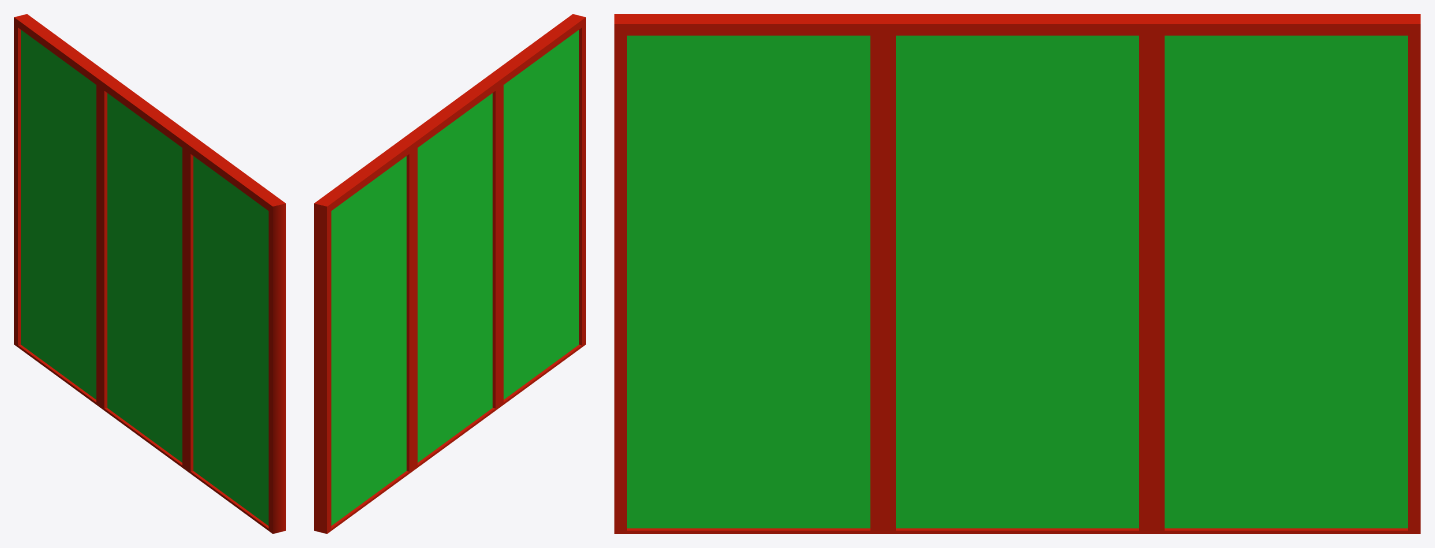
Rendered from Wall_Loby1.fbx.
The picture shows the model from 3 angles, left to right: view 1: azimuth 30°, elevation 25°; view 2: azimuth 150°, elevation 25°; view 3: azimuth 270°, elevation 25°; orthographic projection. The views are drawn at different scales.
Parts seen in each view (by area): view 1: wall:wall_1; view 2: wall:wall_1; view 3: wall:wall_1.
Boxes of the visible parts, <box> form: wall:wall_1: <box>14,14,285,533</box>; wall:wall_1: <box>314,14,585,533</box>; wall:wall_1: <box>614,14,1420,533</box>.
Bounding box in the file's own units: 16.59 × 396 × 567.
